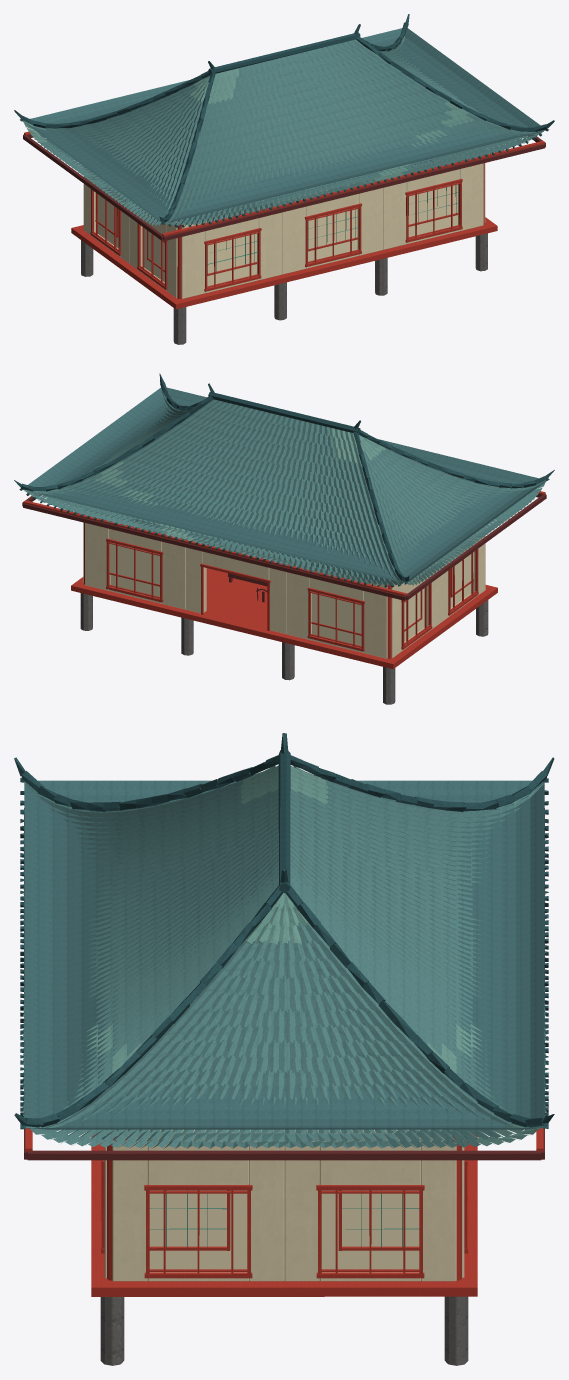
File: reference-public_models_places-low_ouxiangxie.glb
3 views of the same model, one above another, from view 1: azimuth 30°, elevation 25°; view 2: azimuth 150°, elevation 25°; view 3: azimuth 270°, elevation 25° (orthographic). The views are drawn at different scales.
Visible parts, largest first — view 1: r15_ouxiangxie_tile, r15_ouxiangxie_roof, r15_ouxiangxie_plaster.001, r15_ouxiangxie_wood, r15_ouxiangxie_screen.001, r15_ouxiangxie_tiledark, r15_ouxiangxie_darkwood, r15_ouxiangxie_stone, r15_ouxiangxie_tilelight, r15_ouxiangxie_screen, r15_ouxiangxie_latticewood; view 2: r15_ouxiangxie_tile, r15_ouxiangxie_roof, r15_ouxiangxie_wood, r15_ouxiangxie_plaster.001, r15_ouxiangxie_tiledark, r15_ouxiangxie_screen, r15_ouxiangxie_darkwood, r15_ouxiangxie_stone, r15_ouxiangxie_tilelight, r15_ouxiangxie_screen.001; view 3: r15_ouxiangxie_tile, r15_ouxiangxie_roof, r15_ouxiangxie_plaster.001, r15_ouxiangxie_wood, r15_ouxiangxie_tiledark, r15_ouxiangxie_screen.001, r15_ouxiangxie_tilelight, r15_ouxiangxie_darkwood, r15_ouxiangxie_stone.
Part boxes in pixels (left/top/right/bottom): r15_ouxiangxie_tile: left=23, top=39, right=545, bottom=225; r15_ouxiangxie_roof: left=23, top=28, right=545, bottom=223; r15_ouxiangxie_plaster.001: left=83, top=163, right=485, bottom=298; r15_ouxiangxie_wood: left=24, top=131, right=544, bottom=309; r15_ouxiangxie_screen.001: left=98, top=184, right=457, bottom=286; r15_ouxiangxie_tiledark: left=14, top=14, right=554, bottom=227; r15_ouxiangxie_darkwood: left=23, top=134, right=545, bottom=241; r15_ouxiangxie_stone: left=81, top=233, right=487, bottom=344; r15_ouxiangxie_tilelight: left=23, top=36, right=474, bottom=181; r15_ouxiangxie_screen: left=95, top=193, right=164, bottom=269; r15_ouxiangxie_latticewood: left=207, top=185, right=458, bottom=274; r15_ouxiangxie_tile: left=22, top=390, right=546, bottom=585; r15_ouxiangxie_roof: left=23, top=387, right=546, bottom=583; r15_ouxiangxie_wood: left=23, top=491, right=545, bottom=669; r15_ouxiangxie_plaster.001: left=83, top=522, right=485, bottom=658; r15_ouxiangxie_tiledark: left=14, top=373, right=554, bottom=587; r15_ouxiangxie_screen: left=110, top=543, right=473, bottom=633; r15_ouxiangxie_darkwood: left=22, top=494, right=546, bottom=600; r15_ouxiangxie_stone: left=80, top=593, right=488, bottom=704; r15_ouxiangxie_tilelight: left=24, top=410, right=420, bottom=585; r15_ouxiangxie_screen.001: left=110, top=575, right=471, bottom=645; r15_ouxiangxie_tile: left=23, top=772, right=545, bottom=1148; r15_ouxiangxie_roof: left=24, top=780, right=544, bottom=1129; r15_ouxiangxie_plaster.001: left=104, top=1129, right=464, bottom=1281; r15_ouxiangxie_wood: left=25, top=1128, right=543, bottom=1296; r15_ouxiangxie_tiledark: left=14, top=733, right=554, bottom=1129; r15_ouxiangxie_screen.001: left=149, top=1190, right=419, bottom=1269; r15_ouxiangxie_tilelight: left=23, top=765, right=545, bottom=1146; r15_ouxiangxie_darkwood: left=24, top=808, right=544, bottom=1160; r15_ouxiangxie_stone: left=100, top=1296, right=468, bottom=1365.
Size of the model in its own units: 19.64 by 10.88 by 12.58.
20 materials, 10 textured.
